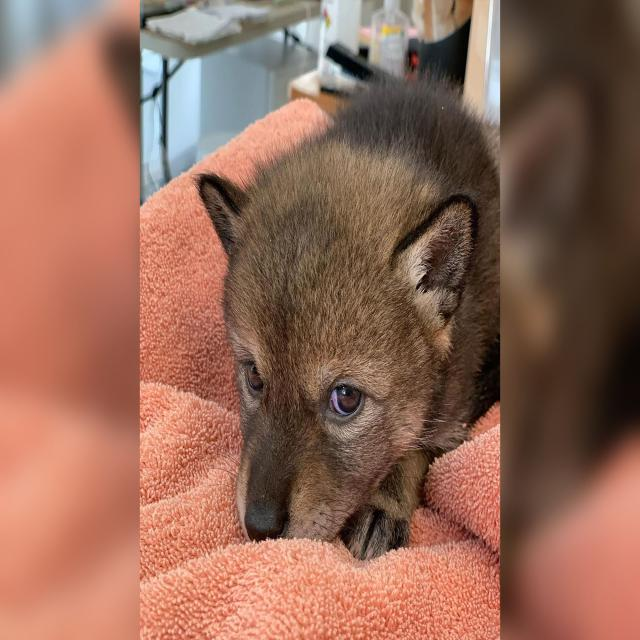Coyote: (203, 69, 501, 557)
